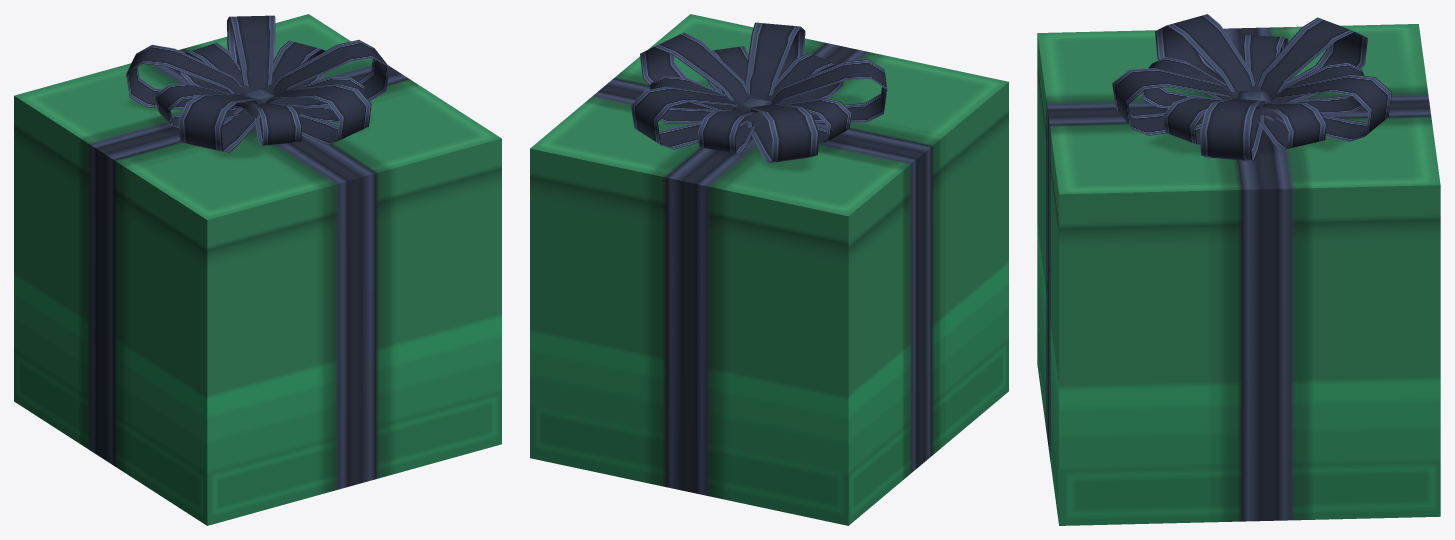
Rendered from Gift2.FBX.
3 views of the same model, side by side, from view 1: azimuth 30°, elevation 25°; view 2: azimuth 150°, elevation 25°; view 3: azimuth 270°, elevation 25° (orthographic). The views are drawn at different scales.
Parts seen in each view (by area): view 1: Gift2; view 2: Gift2; view 3: Gift2.
Part boxes in pixels (box(x1,y1,x2,y2)): Gift2: box(14, 14, 501, 525); Gift2: box(530, 14, 1008, 525); Gift2: box(1037, 14, 1440, 525).
Bounding box in the file's own units: 12.66 × 13.21 × 12.66.
1 material, 1 textured.
